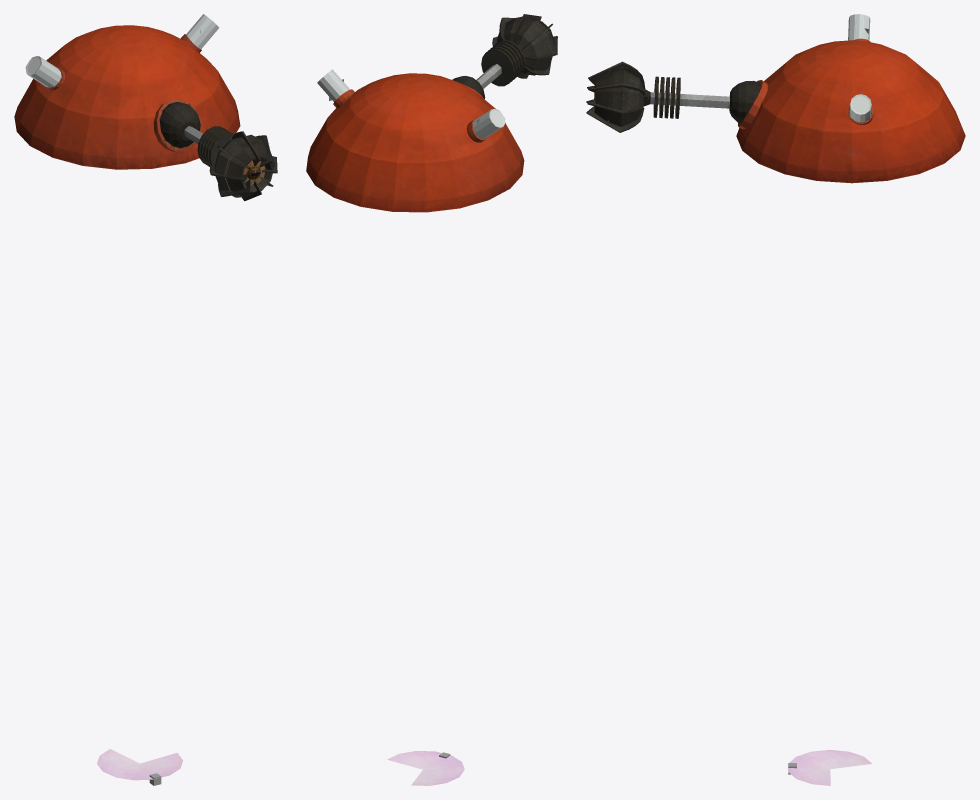
Rendered from Dalek_head.obj.
3 renders of one model, left to right at view 1: azimuth 30°, elevation 25°; view 2: azimuth 150°, elevation 25°; view 3: azimuth 270°, elevation 25°, orthographic. The views are drawn at different scales.
Parts seen in each view (by area): view 1: Dalek; view 2: Dalek; view 3: Dalek.
Boxes of the visible parts, <box> form: Dalek: <box>14,14,277,780</box>; Dalek: <box>306,14,557,785</box>; Dalek: <box>586,14,965,785</box>.
Size of the model in its own units: 52.26 by 185 by 88.04.
Materials: 6 (5 with a texture image).
